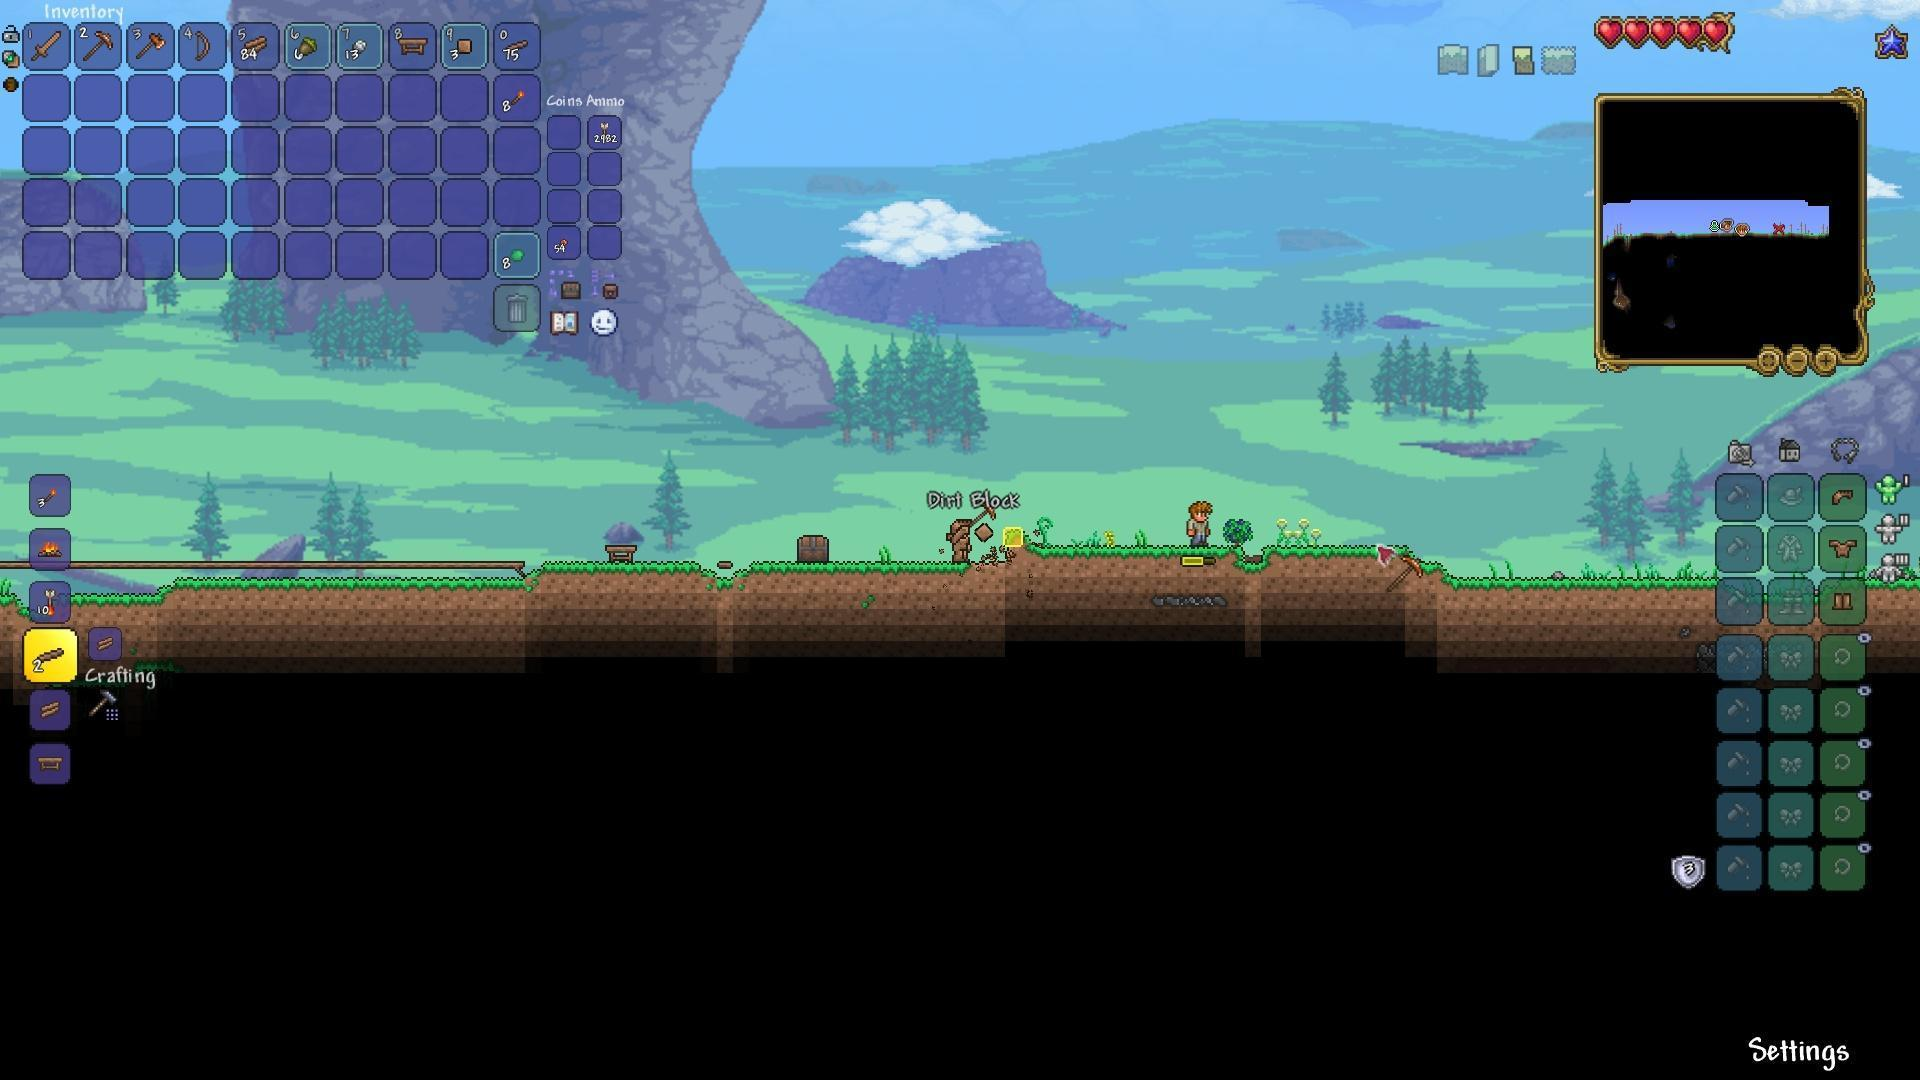breastplate: (1829, 537, 1859, 559)
helmet: (1826, 483, 1858, 512)
legs: (1832, 588, 1857, 617)
wood: (88, 629, 120, 659), (37, 695, 66, 721), (243, 33, 270, 59)
workbench: (393, 33, 430, 58), (603, 542, 640, 567), (36, 752, 67, 775)
